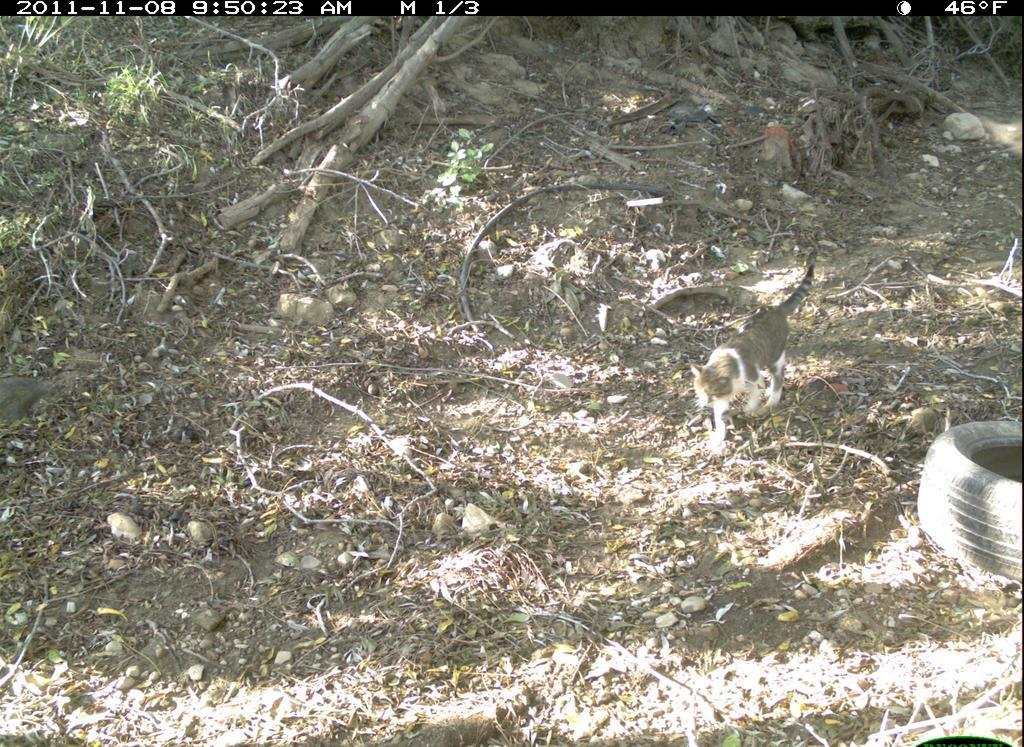cat: (683, 246, 824, 464)
